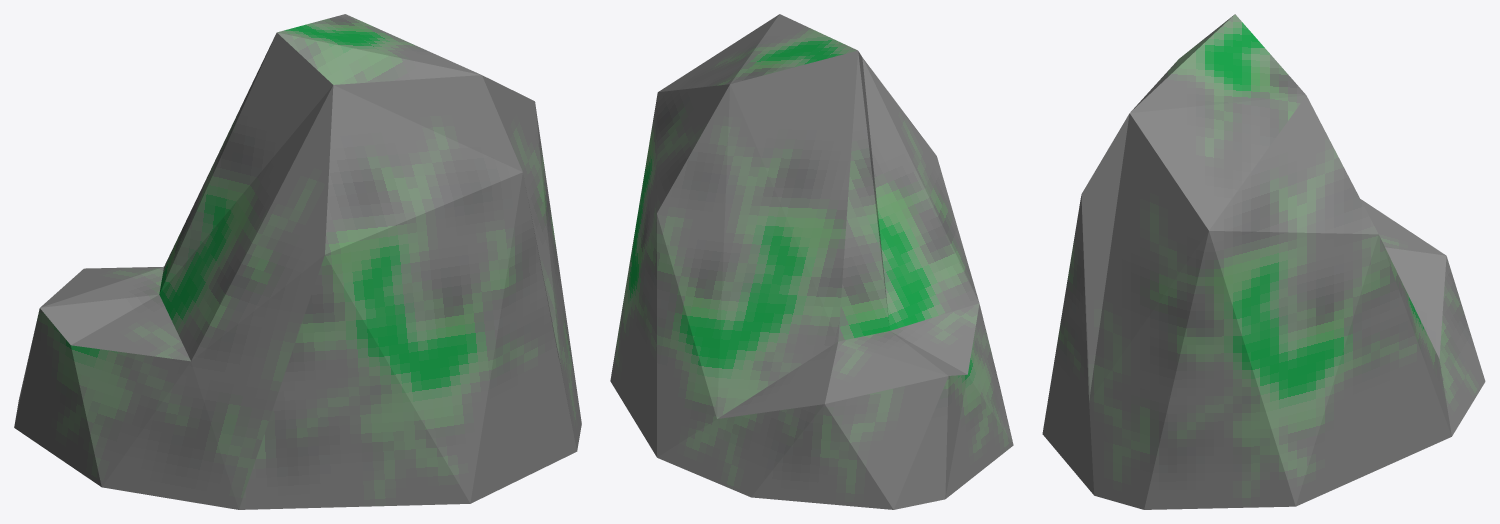
Rendered from roca_gran.glb.
3 views of the same model, side by side, from view 1: azimuth 30°, elevation 25°; view 2: azimuth 150°, elevation 25°; view 3: azimuth 270°, elevation 25° (orthographic). The views are drawn at different scales.
Visible parts, largest first — view 1: Roca-2; view 2: Roca-2; view 3: Roca-2.
Boxes of the visible parts, x1,y1,x2,y2 form: Roca-2: [14, 14, 581, 509]; Roca-2: [610, 14, 1013, 509]; Roca-2: [1042, 14, 1485, 509].
Size of the model in its own units: 2.46 by 2.24 by 2.36.
Materials: 1 (1 with a texture image).
